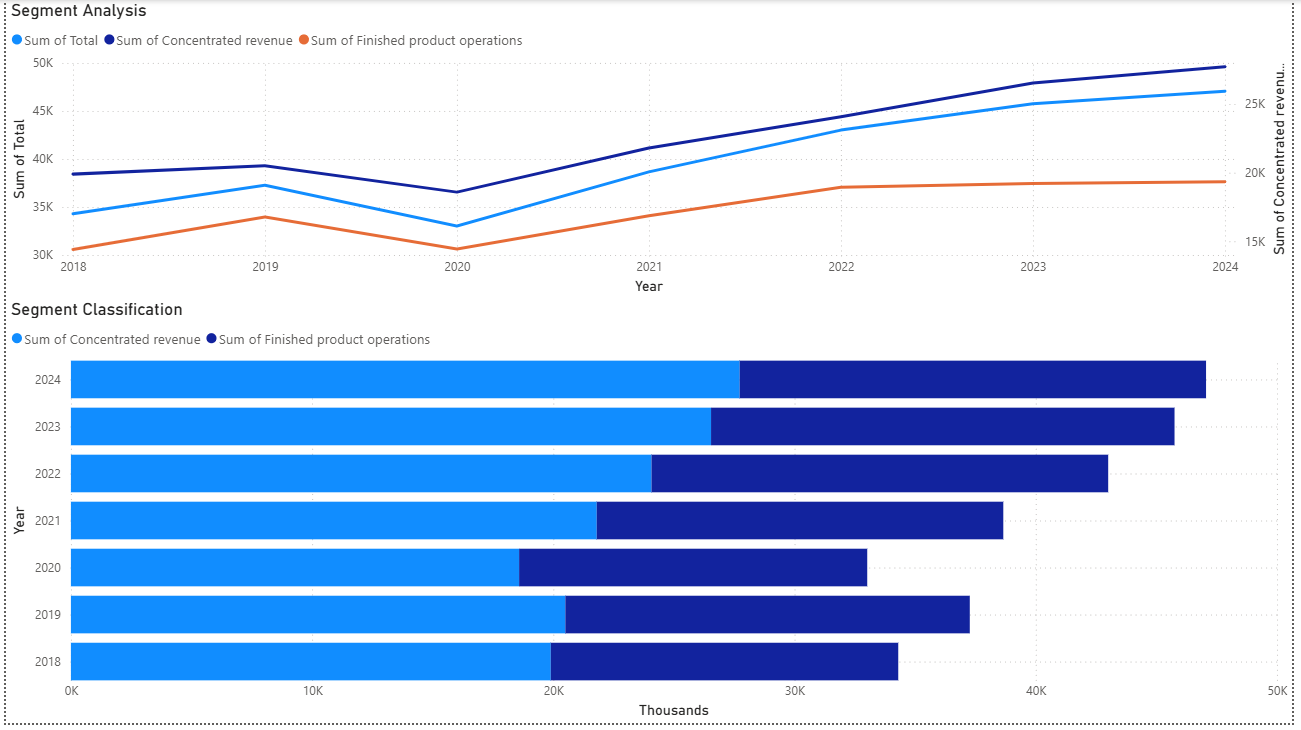

The page's visual inventory and layout, read from the dashboard file:
{"tool":"powerbi","page":{"name":"Segments","canvas":[1280,720],"ordinal":3},"visuals":[{"type":"barChart","title":"Segment Classification","fields":{"Category":["Segments.Year"],"Y":["Sum(Segments.Concentrated revenue)","Sum(Segments.Finished product operations)"]},"box":[0,297.5,1280,422.5],"z":0},{"type":"lineChart","title":"Segment Analysis","fields":{"Y":["Sum(Segments.Total)"],"Category":["Segments.Year"],"Y2":["Sum(Segments.Concentrated revenue)","Sum(Segments.Finished product operations)"]},"box":[0,0,1280,297.5],"z":1000}]}

Visuals, with their boxes in screenshot pixels (x1, y1, x2, y2), scaled from the page's 1280x720 canvas onto the 1301x730 screenshot:
"Segment Classification" barChart: (left=0, top=302, right=1300, bottom=729)
"Segment Analysis" lineChart: (left=0, top=0, right=1300, bottom=302)
